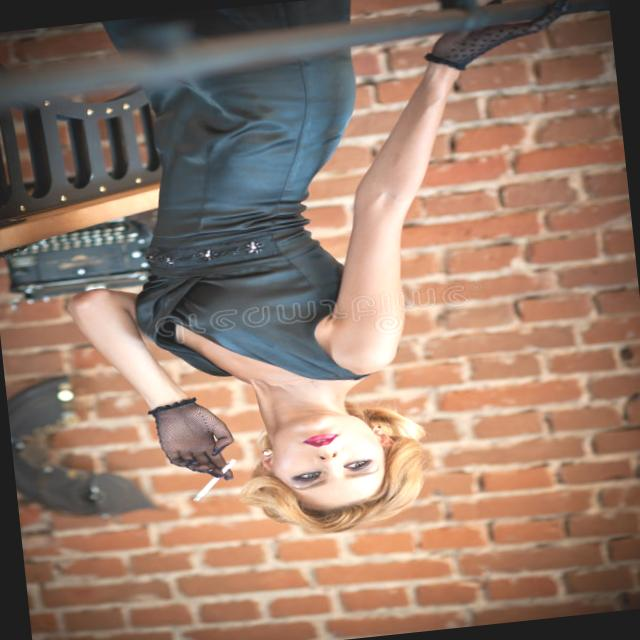smoke: (186, 454, 252, 500)
